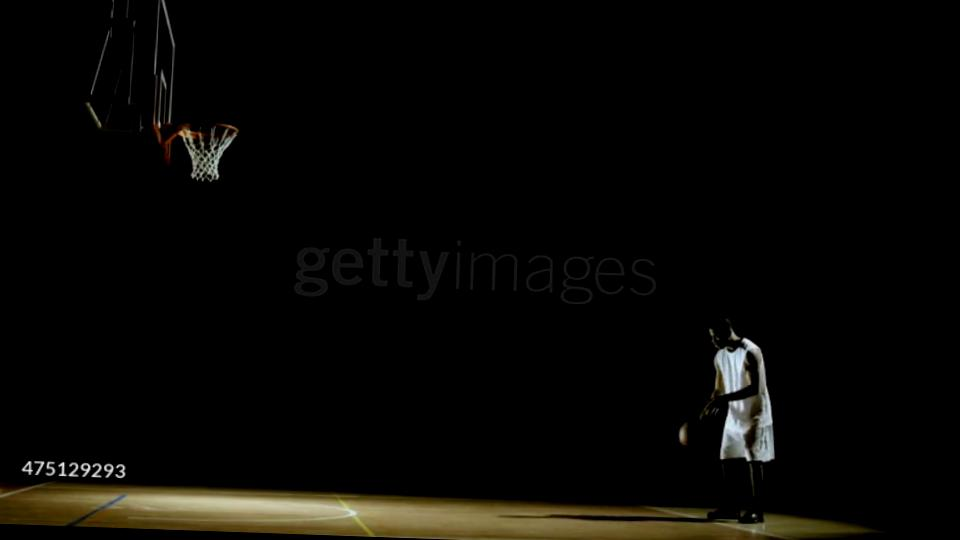hoop: (154, 114, 246, 148)
